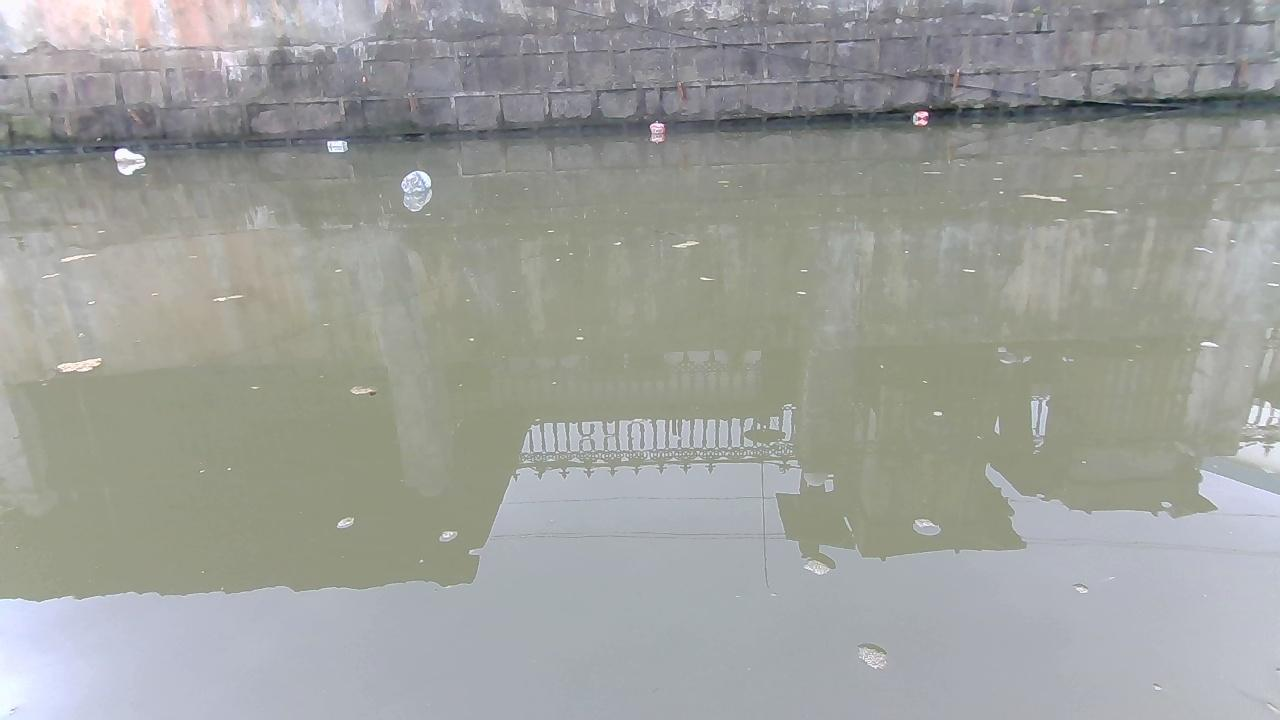bottle: (400, 169, 433, 198), (112, 145, 147, 162), (321, 138, 350, 157), (914, 109, 930, 121), (649, 120, 662, 134)
